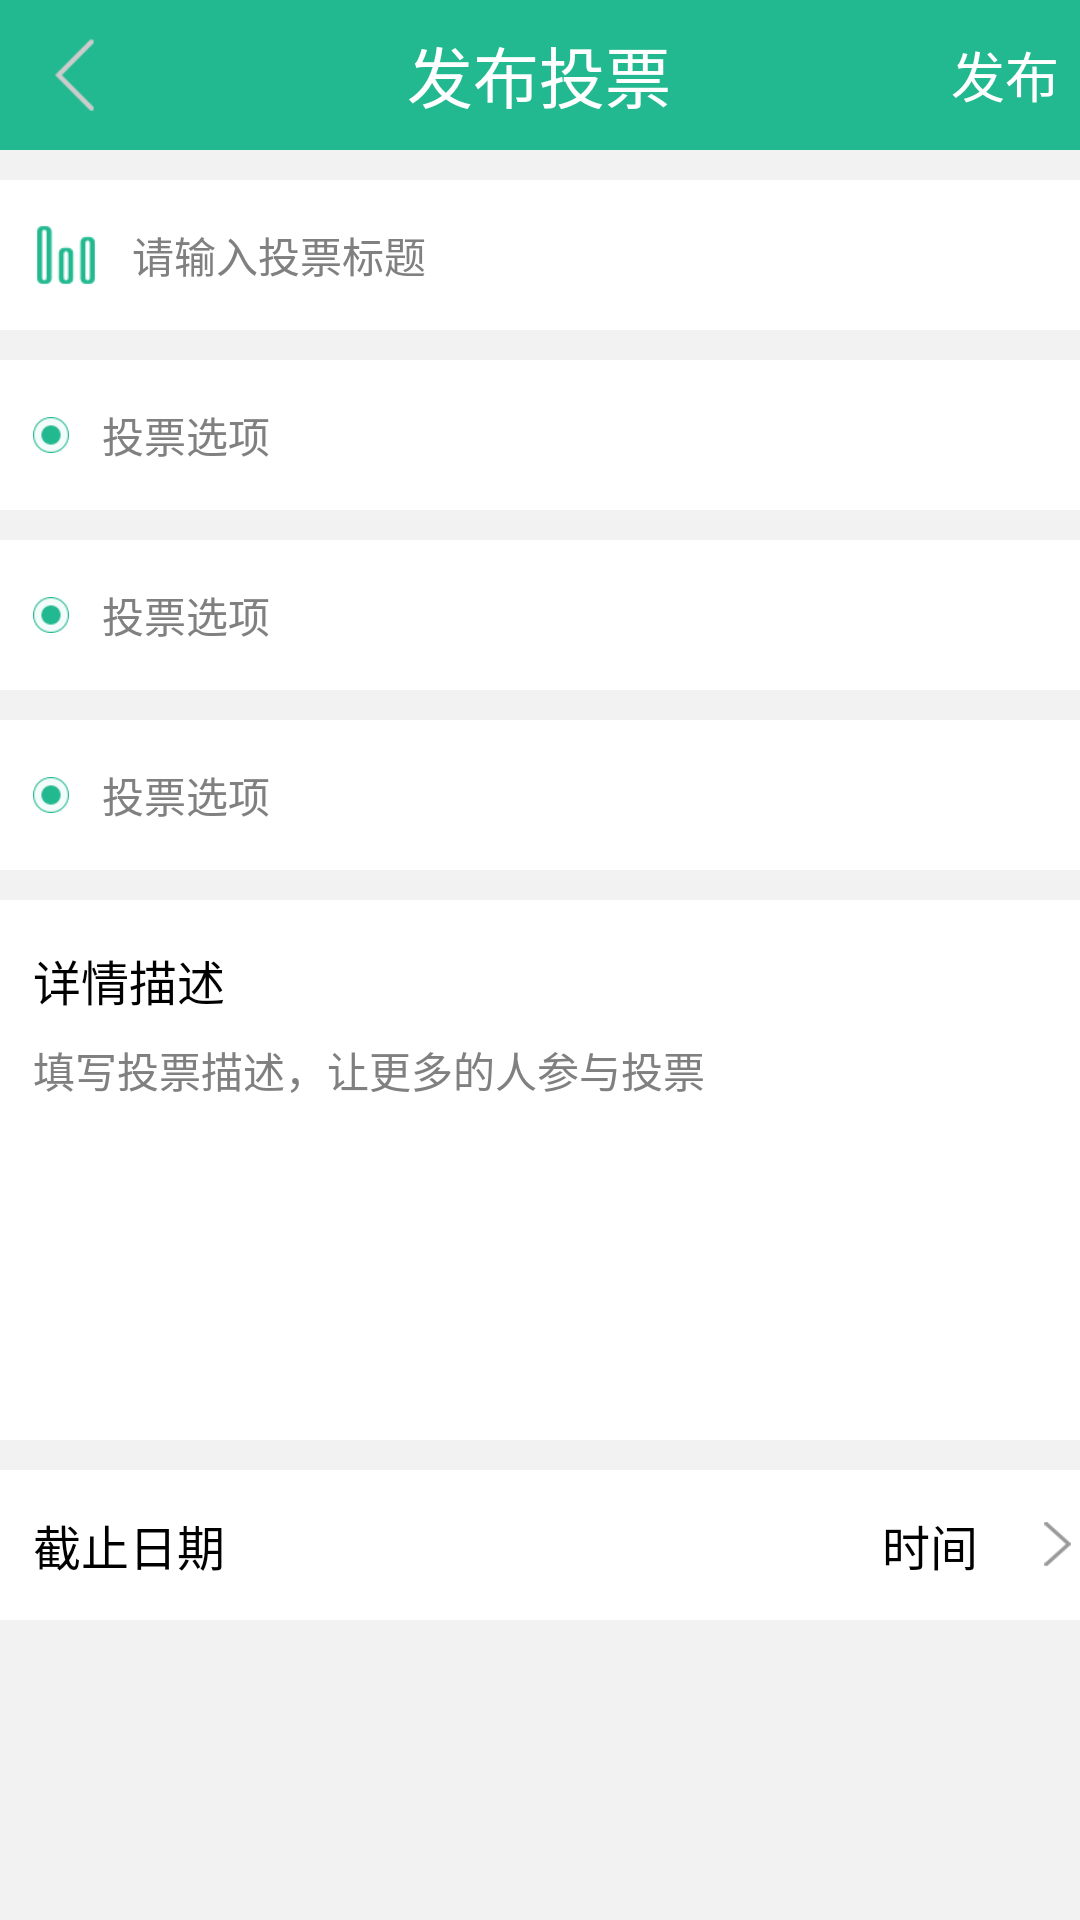

Icons on this 1080px x 1920px Android screen, each with its box as (x1, y1, x2, y2):
list item next: (1044, 1522, 1071, 1566)
vote: (37, 226, 95, 284)
vote option: (33, 417, 69, 453), (33, 597, 69, 633), (33, 777, 69, 813)
